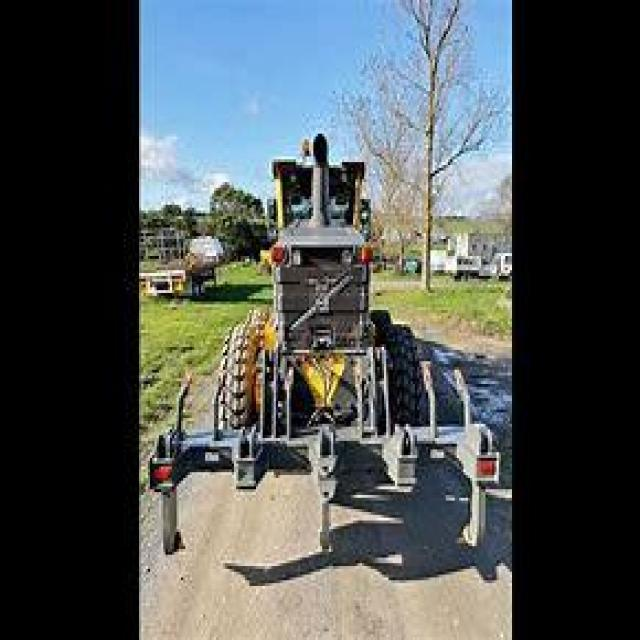Grader: (214, 134, 435, 495)
